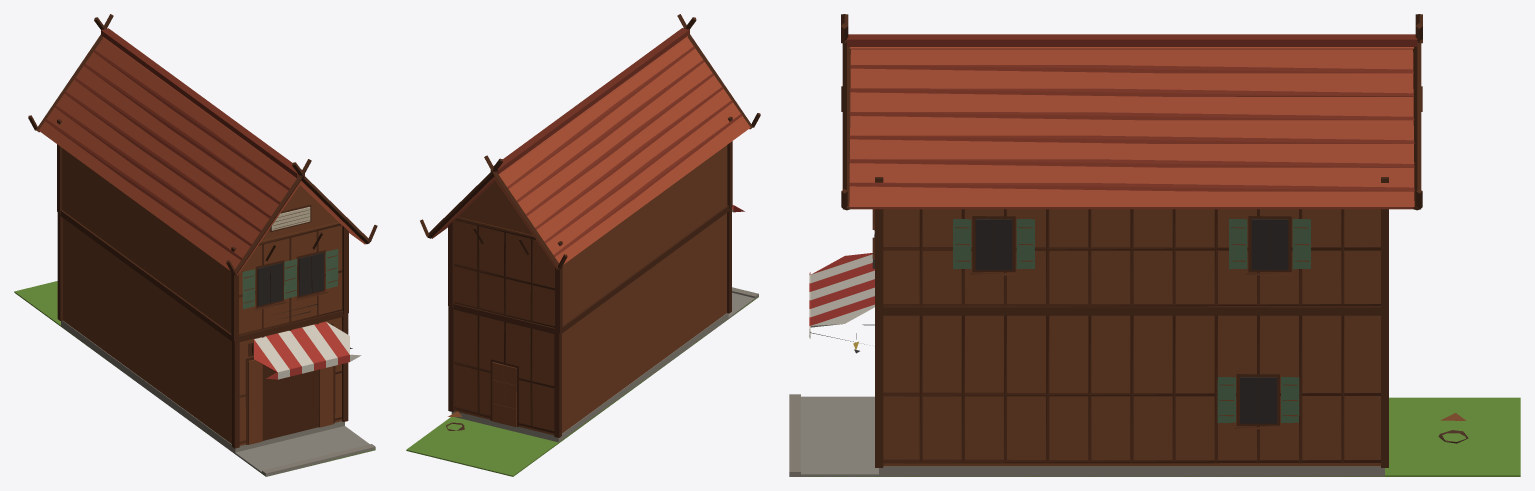
File: bay1_right.glb
3 renders of one model, left to right at view 1: azimuth 30°, elevation 25°; view 2: azimuth 150°, elevation 25°; view 3: azimuth 270°, elevation 25°, orthographic. The views are drawn at different scales.
Visible parts, largest first — view 1: body, windows; view 2: body; view 3: body, windows.
Part boxes in pixels (x1,y1,x2,y2): body: [14, 14, 377, 476]; windows: [257, 252, 323, 306]; body: [406, 14, 760, 476]; body: [789, 14, 1520, 476]; windows: [853, 219, 1288, 423].
Size of the model in its own units: 5.52 by 10.07 by 15.9.
